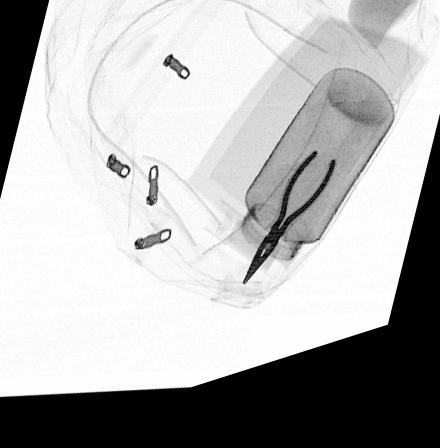Pliers: (240, 166, 337, 302)
